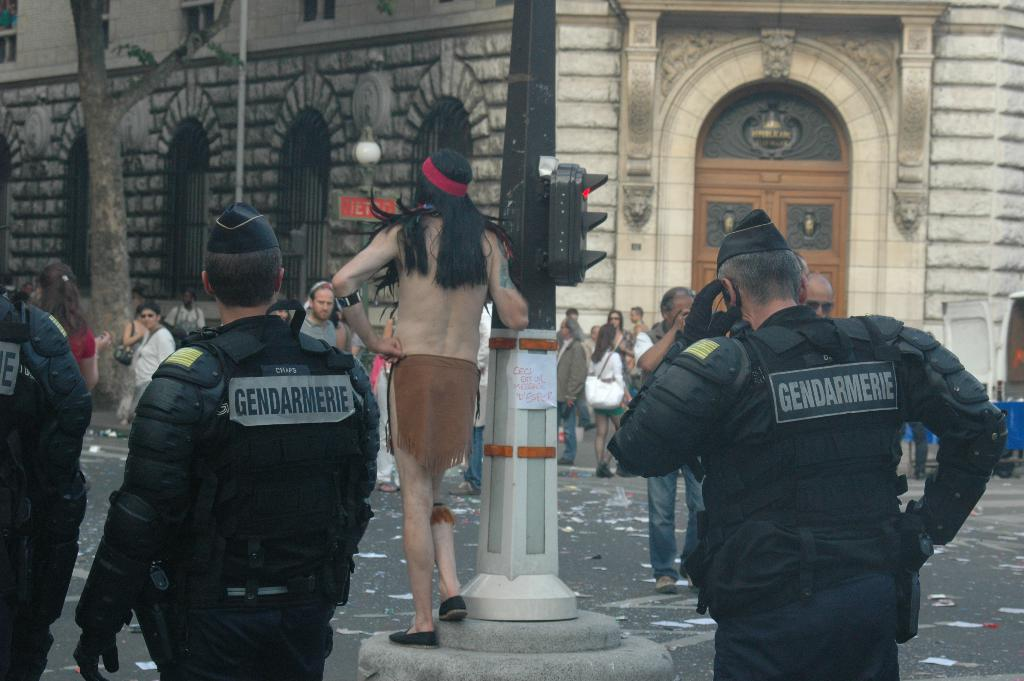Person: (0, 148, 1007, 681)
